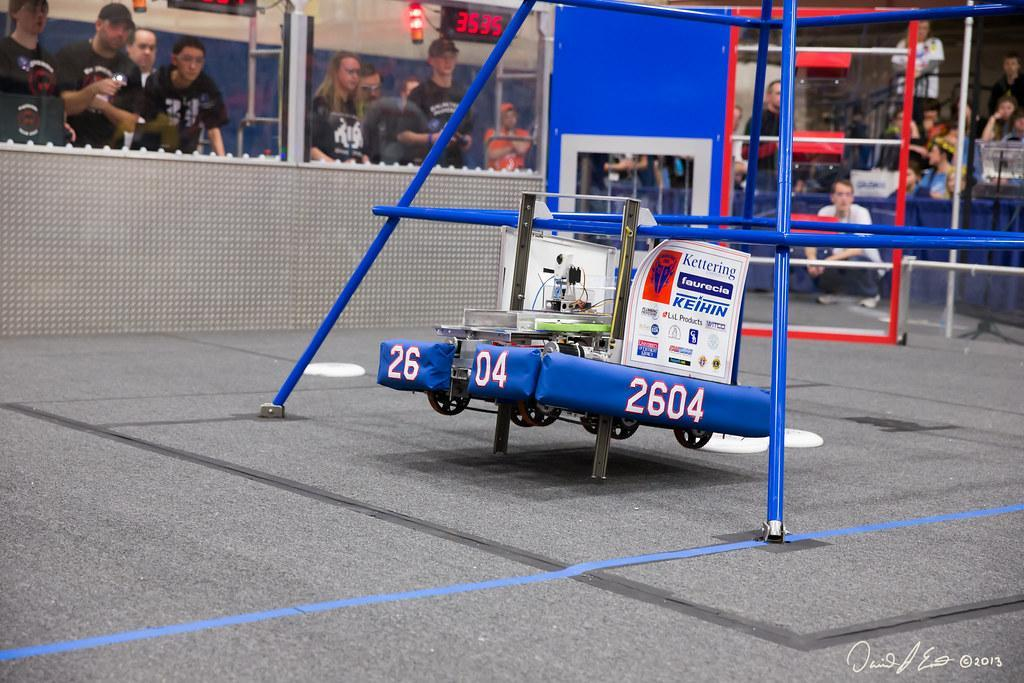robot: (369, 186, 786, 496)
